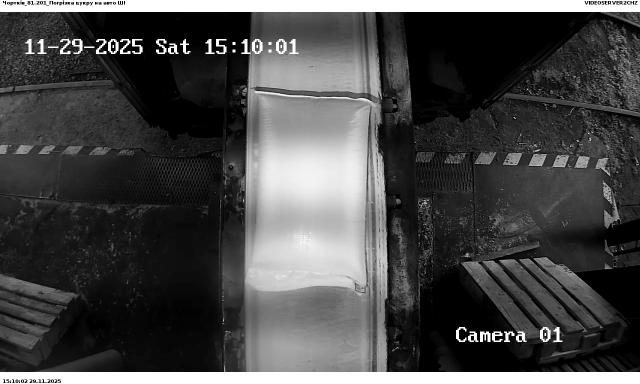bag: (249, 88, 378, 296)
